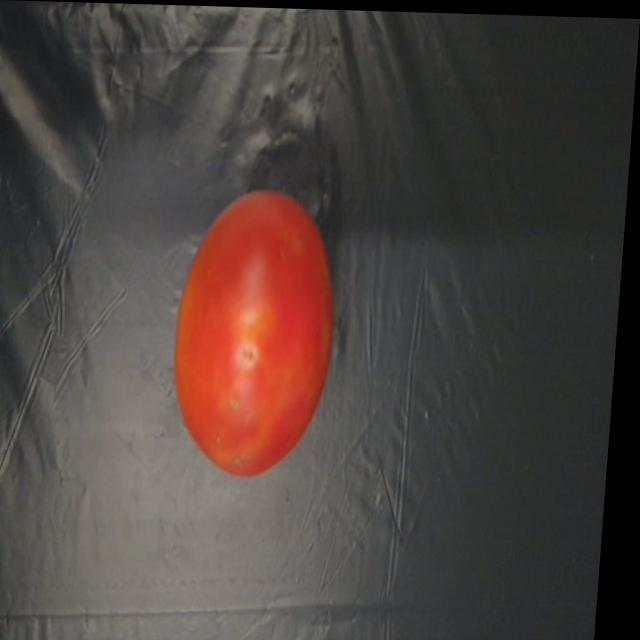kirmizi: (180, 172, 347, 473)
